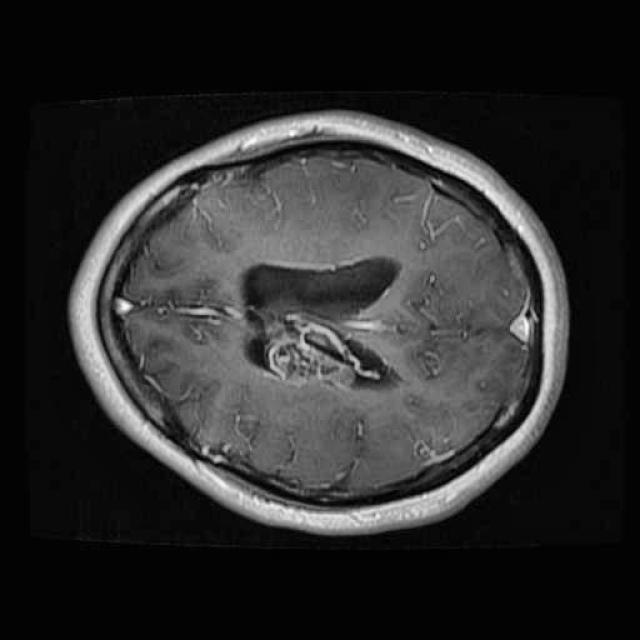Non-Tumor: (246, 295, 382, 415)
